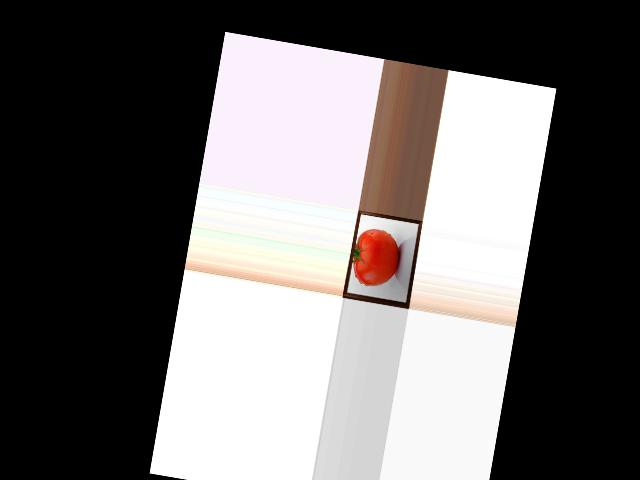tomato: (348, 226, 403, 290)
